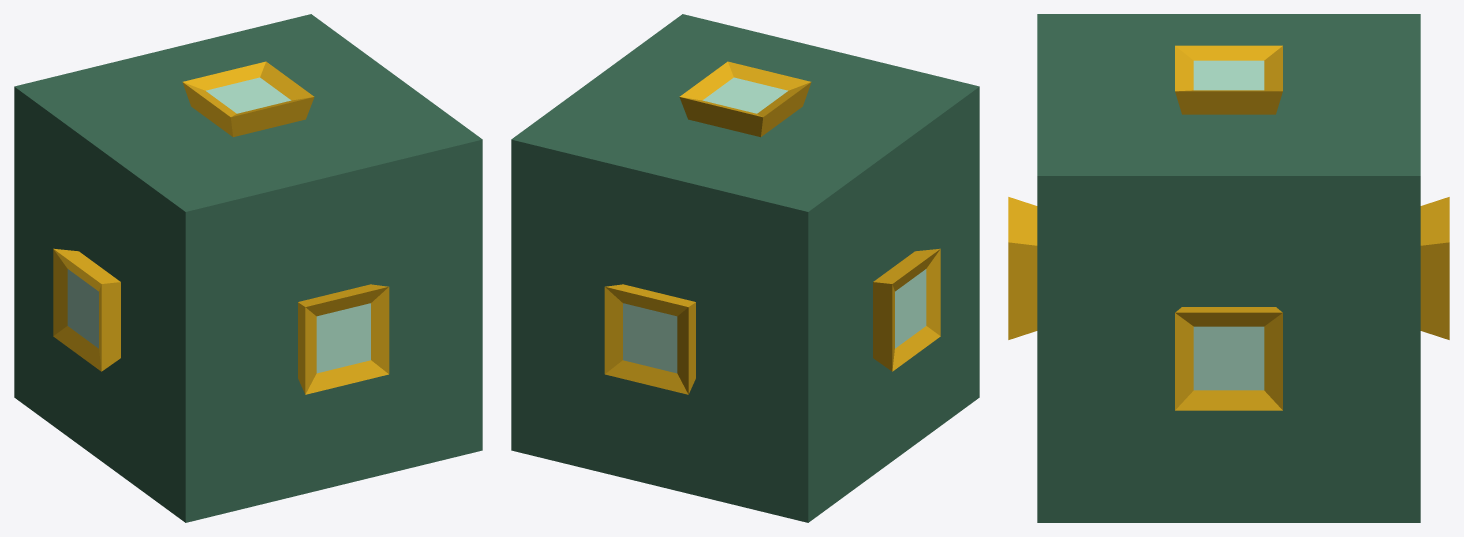
Rendered from PartOfCube.fbx.
3 renders of one model, left to right at view 1: azimuth 30°, elevation 25°; view 2: azimuth 150°, elevation 25°; view 3: azimuth 270°, elevation 25°, orthographic. The views are drawn at different scales.
Parts seen in each view (by area): view 1: Cube; view 2: Cube; view 3: Cube.
Boxes of the visible parts, left/top/right/bottom form: Cube: left=14, top=14, right=482, bottom=522; Cube: left=511, top=14, right=979, bottom=522; Cube: left=1008, top=14, right=1449, bottom=522.
Bounding box in the file's own units: 230 × 230 × 230.
